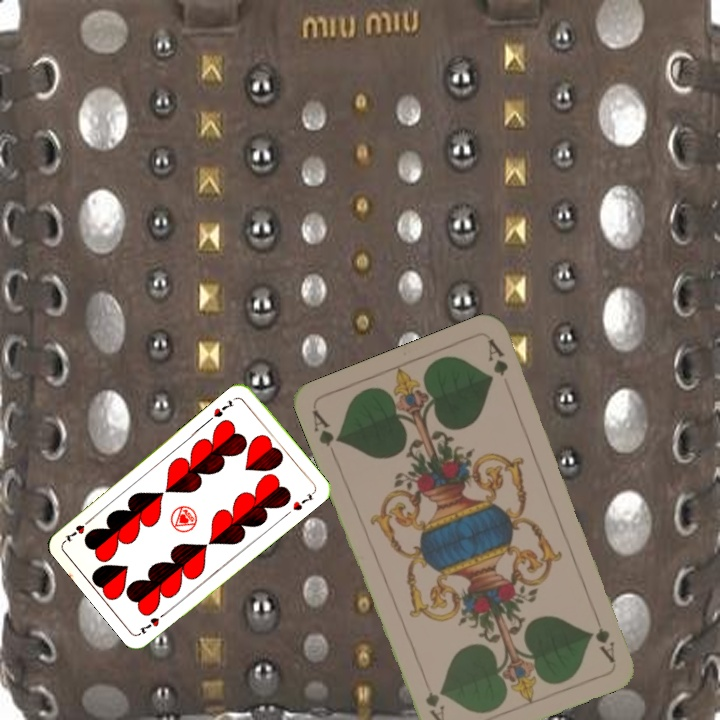GA: (307, 406, 344, 449), (591, 623, 618, 665)
H7: (135, 607, 170, 637), (209, 396, 237, 420)
